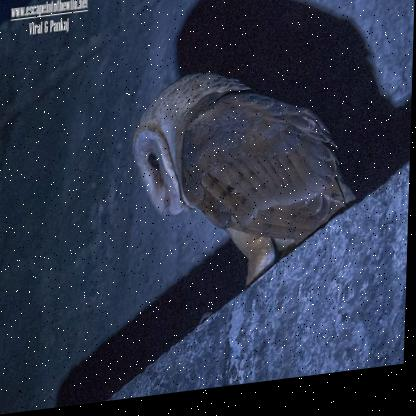Burung: (130, 61, 363, 269)
